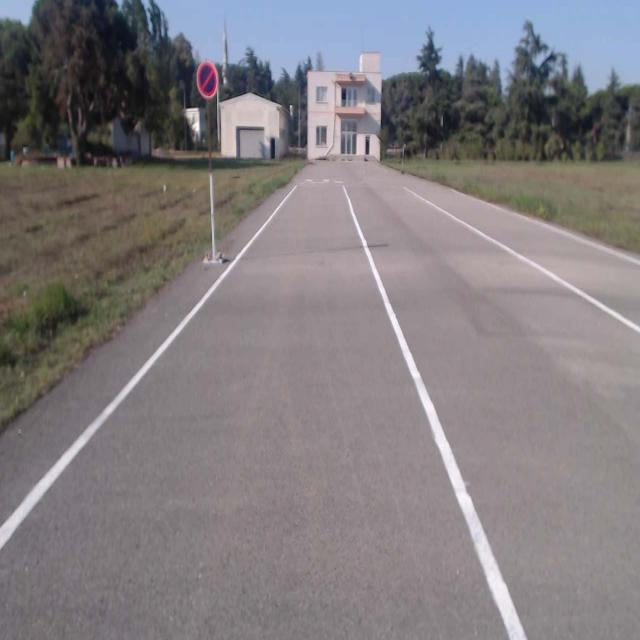parkyasak: (196, 62, 218, 97)
